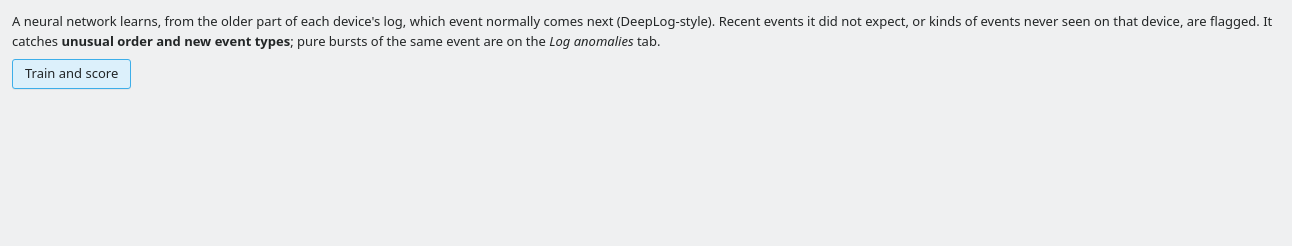
Test: Neural tabs › shows sequence anomalies with their reasons
This screenshot has width=1292, height=246.
Step 1. Click the button "Train and score" → x=72, y=74, box [12, 59, 131, 88]
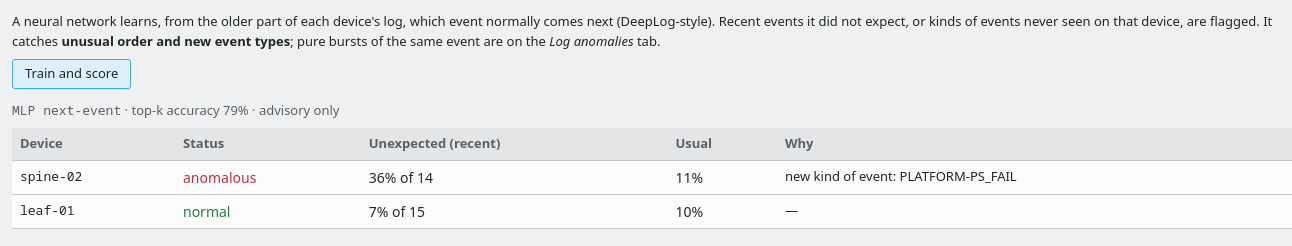
Check: the text "new kind of event: PLATFORM-PS_FAIL" is shown, box [777, 160, 1291, 194]
Check: the text "anomalous" is shown, box [183, 168, 256, 186]
